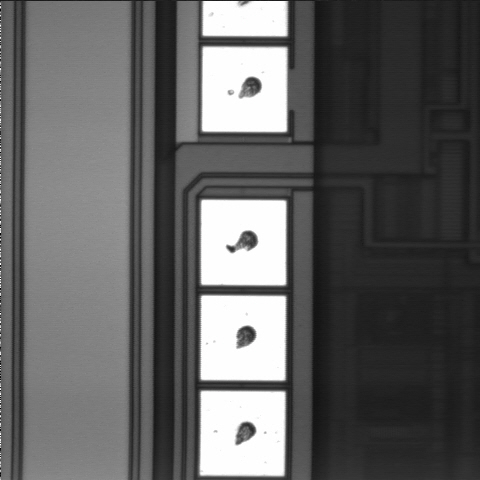pad: (202, 47, 287, 132), (201, 200, 286, 285), (200, 391, 285, 476), (201, 296, 286, 380)
